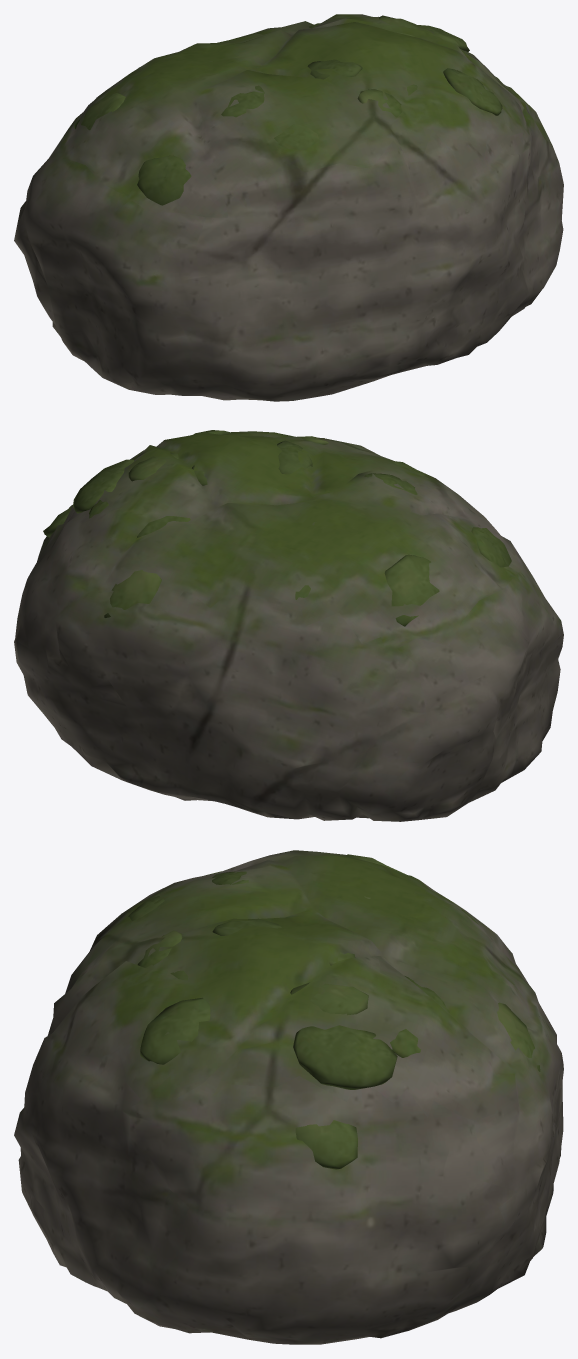
File: kit_rock.glb
3 views of the same model, one above another, from view 1: azimuth 30°, elevation 25°; view 2: azimuth 150°, elevation 25°; view 3: azimuth 270°, elevation 25° (orthographic). The views are drawn at different scales.
Parts seen in each view (by area): view 1: Rock; view 2: Rock; view 3: Rock.
Boxes of the visible parts, x1,y1,x2,y2 form: Rock: (14,14,563,401); Rock: (14,430,563,821); Rock: (14,850,563,1344).
Size of the model in its own units: 1.88 by 1.08 by 1.5.
Materials: 1 (1 with a texture image).
